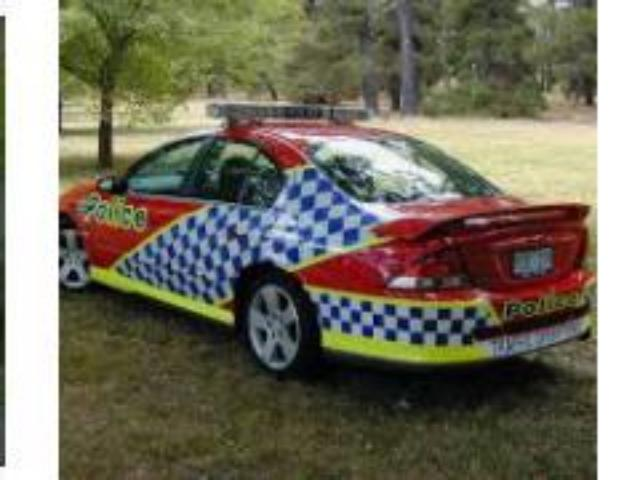police_car: (59, 99, 597, 384)
